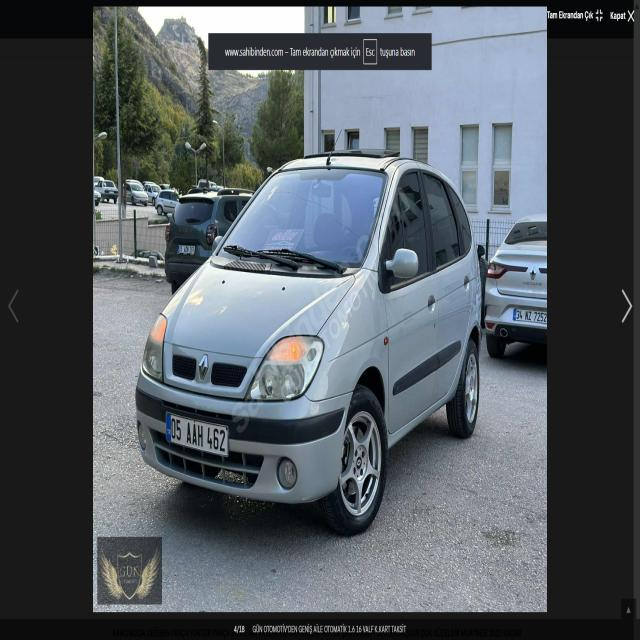renault: (192, 342, 215, 388)
